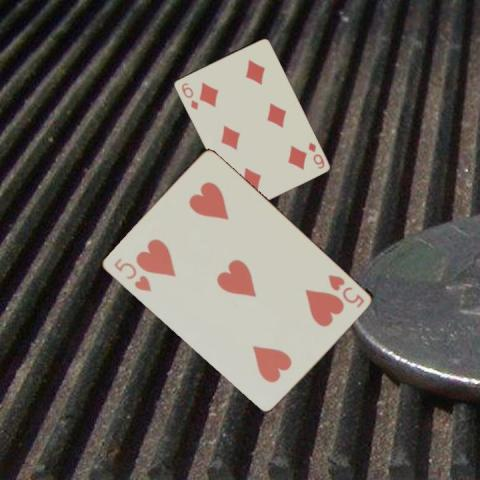5h: (110, 255, 152, 293), (324, 272, 365, 310)
6d: (178, 80, 199, 111), (305, 139, 325, 170)
